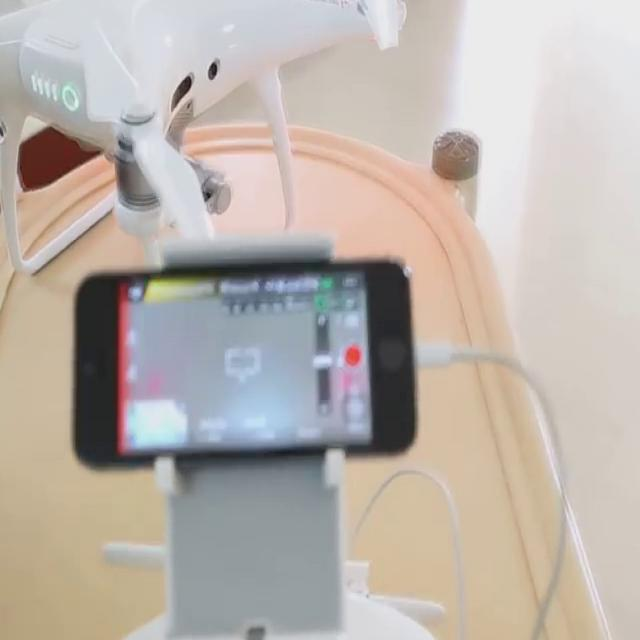drone: (0, 0, 427, 335)
